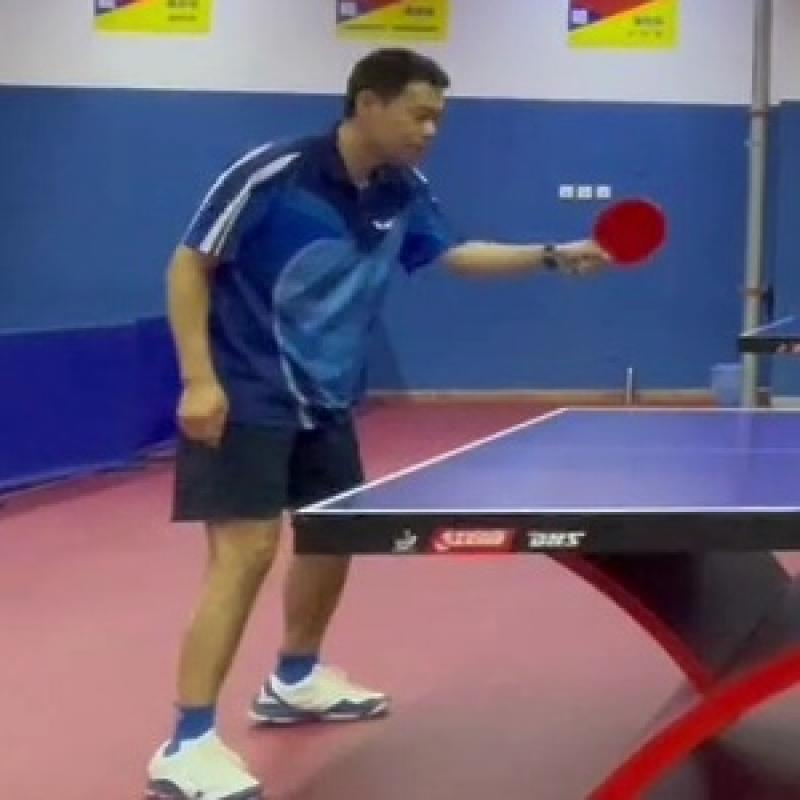bats: (583, 191, 675, 272)
